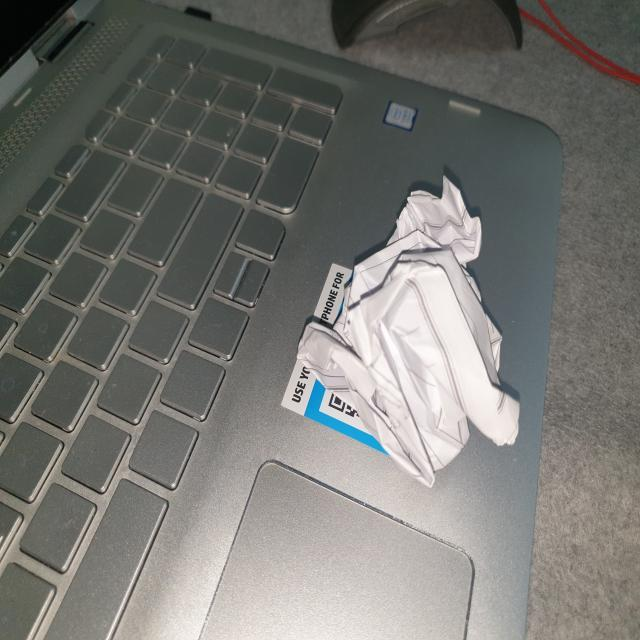Paper: (296, 176, 521, 490)
